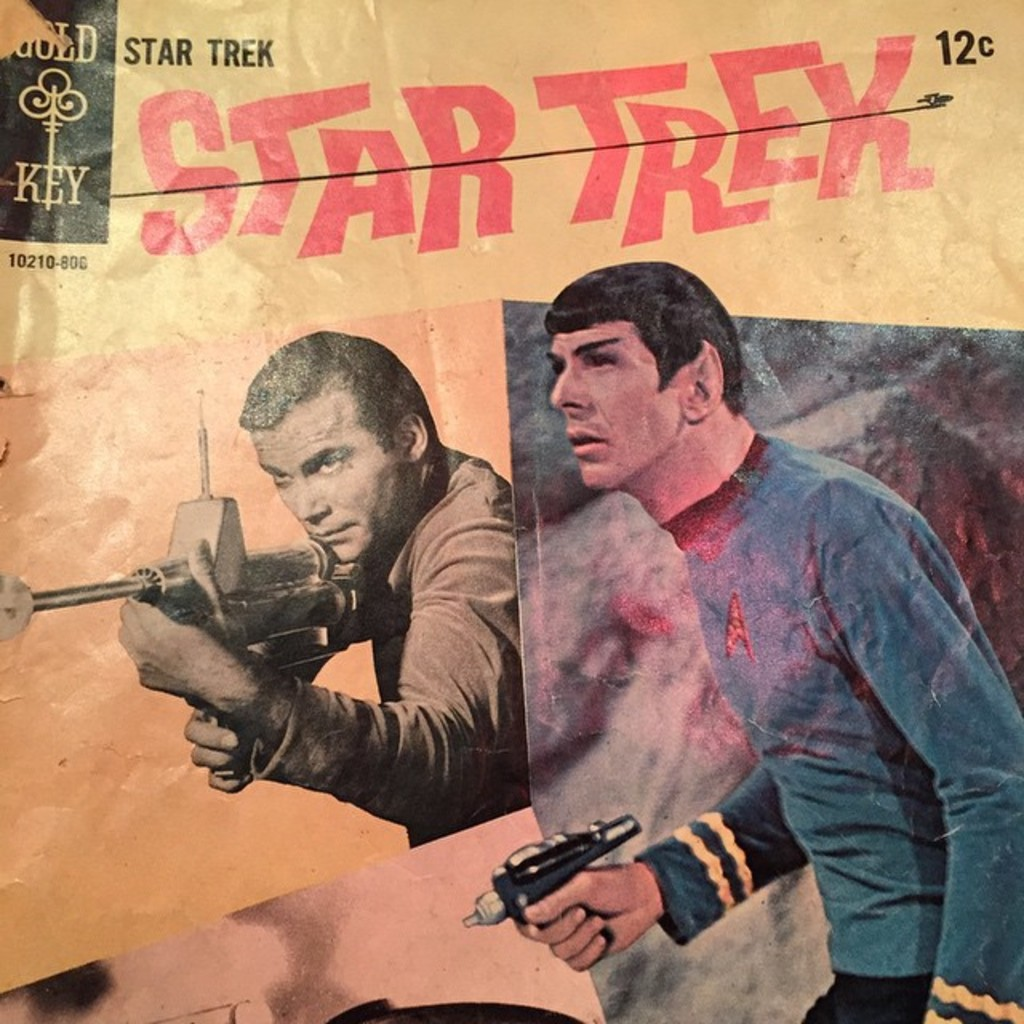Human_hand: (539, 834, 690, 970), (117, 597, 246, 707), (181, 702, 259, 794)
